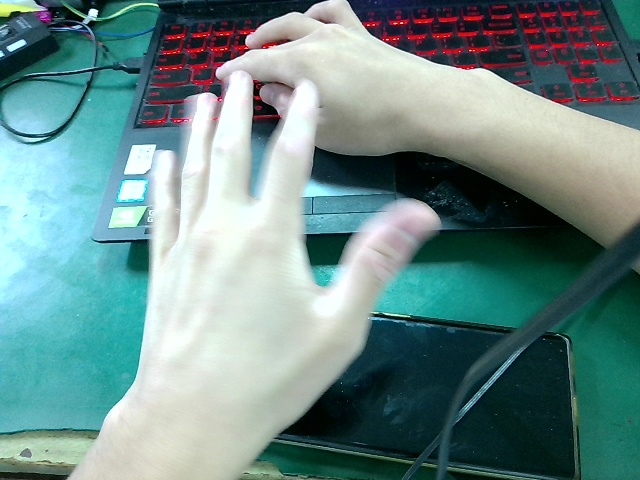paper: (125, 71, 447, 456)
